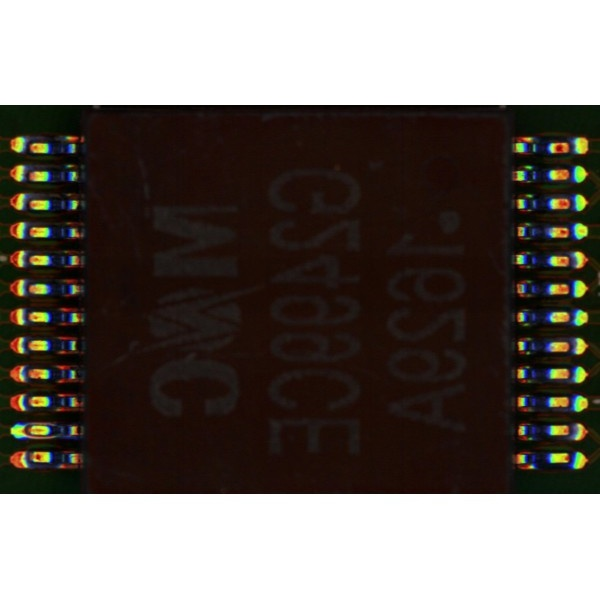Bad_qiaojiao: (25, 435, 60, 440), (25, 422, 57, 426)
